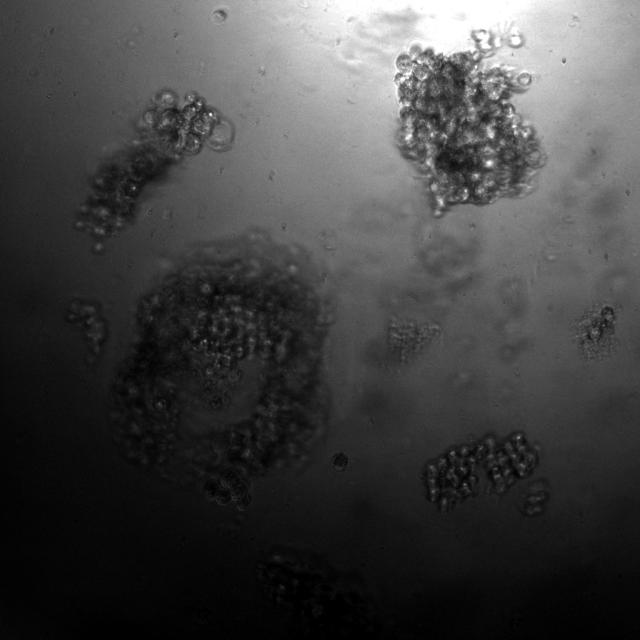organoid: (109, 232, 332, 510), (392, 20, 547, 221), (74, 90, 234, 254), (423, 432, 538, 510), (66, 298, 108, 361), (385, 317, 439, 363), (575, 304, 618, 359), (520, 478, 549, 517), (210, 6, 228, 24), (331, 452, 348, 470)
